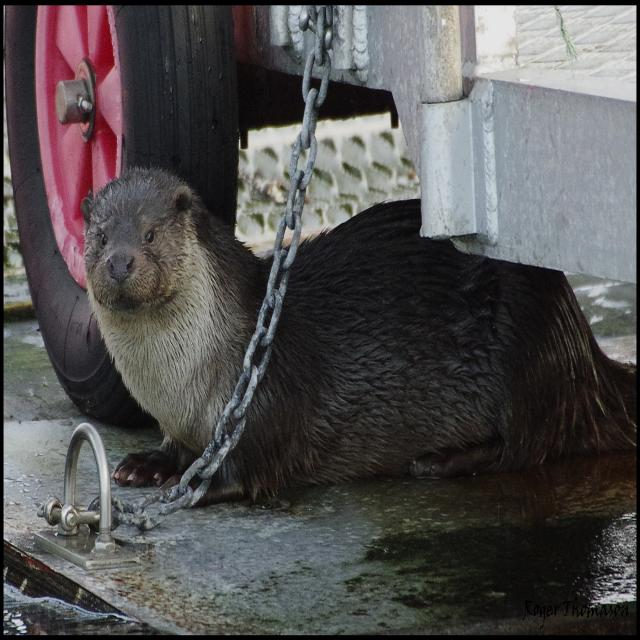otter: (84, 172, 601, 481)
